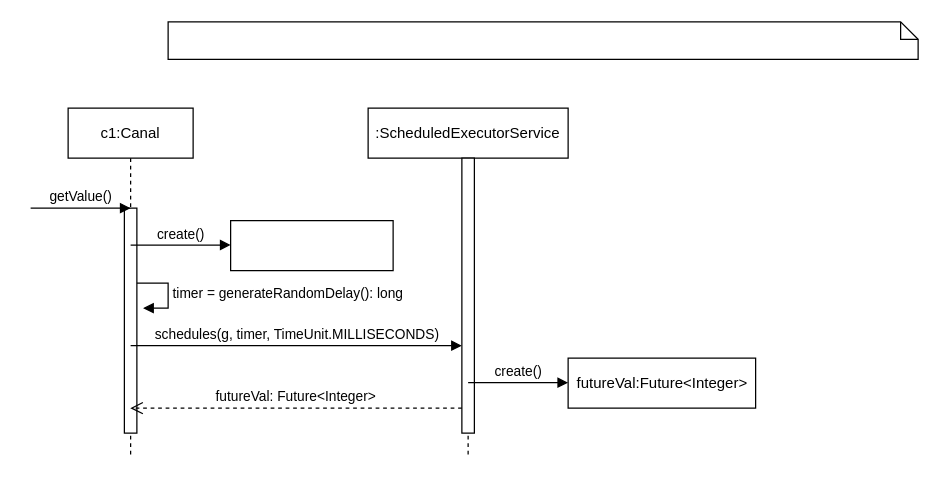
Image size: 940x480. Some labels were removed from this diagram. Each missing label, with the centre of its shape:
"Diagramme de séquence 3 Modèle 3 : Création de la MethodInvocation GetValue" belongs at (542,40).
"g:GetValue<Integer>" belongs at (311,245).
